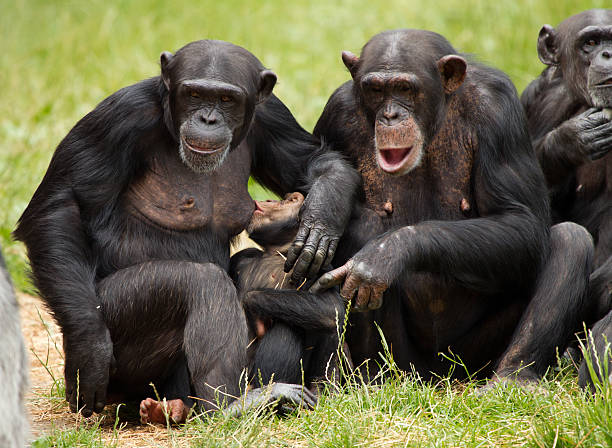chimpanzee: (331, 20, 475, 189), (141, 30, 301, 173)
